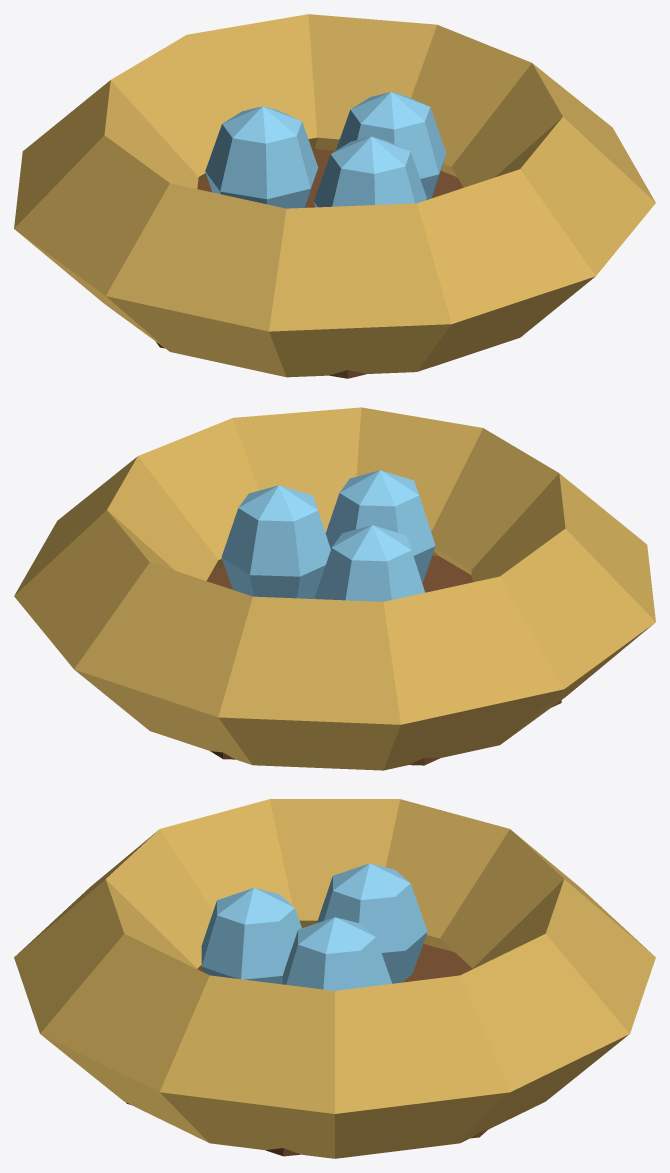
The model's file is bird-nest-lod1.glb.
3 views of the same model, one above another, from view 1: azimuth 30°, elevation 25°; view 2: azimuth 150°, elevation 25°; view 3: azimuth 270°, elevation 25° (orthographic).
Visible parts, largest first — view 1: bird-nest; view 2: bird-nest; view 3: bird-nest.
Part boxes in pixels (x1,y1,x2,y2): bird-nest: (14, 14, 655, 378); bird-nest: (14, 407, 655, 770); bird-nest: (14, 799, 655, 1158).
Size of the model in its own units: 0.5487 by 0.165 by 0.5543.
